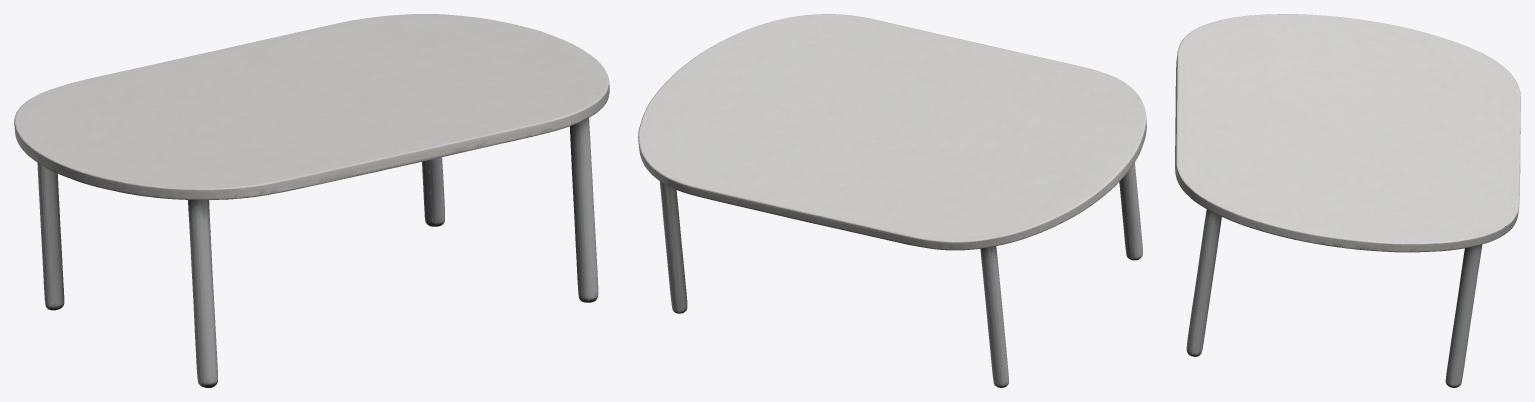
File: white_oval_table_000.glb
The picture shows the model from 3 angles, left to right: view 1: azimuth 30°, elevation 25°; view 2: azimuth 150°, elevation 25°; view 3: azimuth 270°, elevation 25°; orthographic projection. The views are drawn at different scales.
Visible parts, largest first — view 1: white_oval_table_000.obj; view 2: white_oval_table_000.obj; view 3: white_oval_table_000.obj.
Part boxes in pixels (x1,y1,x2,y2): white_oval_table_000.obj: (14,14,609,387); white_oval_table_000.obj: (638,14,1146,387); white_oval_table_000.obj: (1175,14,1520,387).
Size of the model in its own units: 1.01 by 0.4483 by 0.6897.
Materials: 1 (1 with a texture image).
